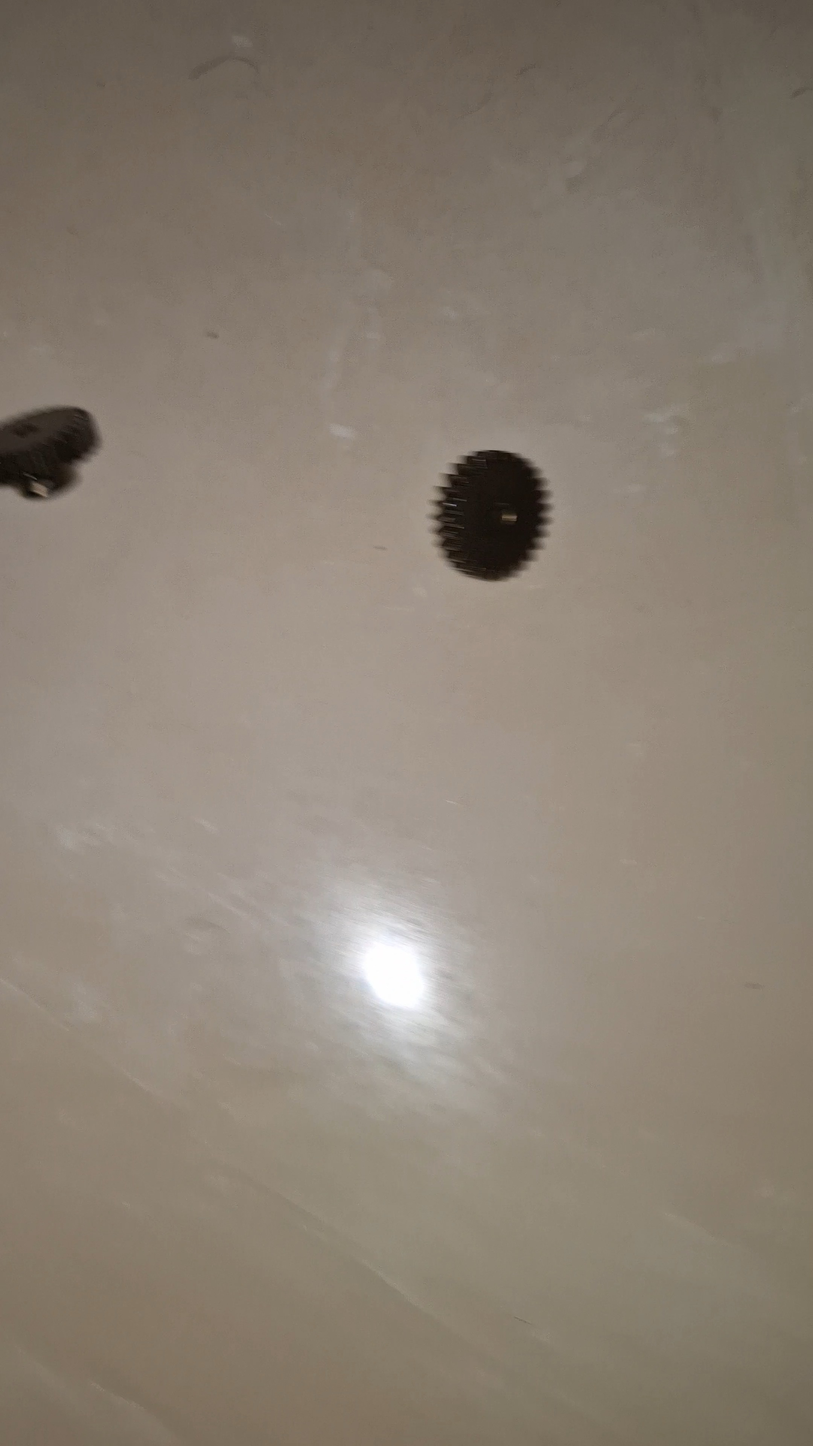spur gear: (436, 451, 550, 580), (0, 407, 98, 496)
